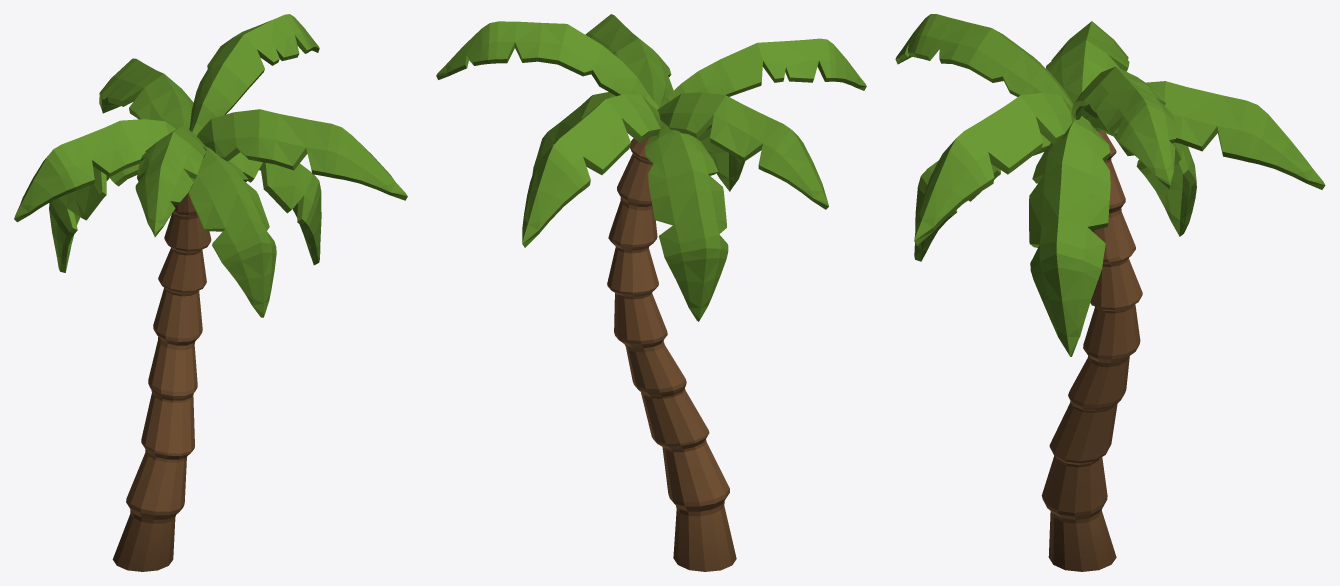
Rendered from palm-a.glb.
The picture shows the model from 3 angles, left to right: view 1: azimuth 30°, elevation 25°; view 2: azimuth 150°, elevation 25°; view 3: azimuth 270°, elevation 25°; orthographic projection. The views are drawn at different scales.
Size of the model in its own units: 2.61 by 3.59 by 2.52.
